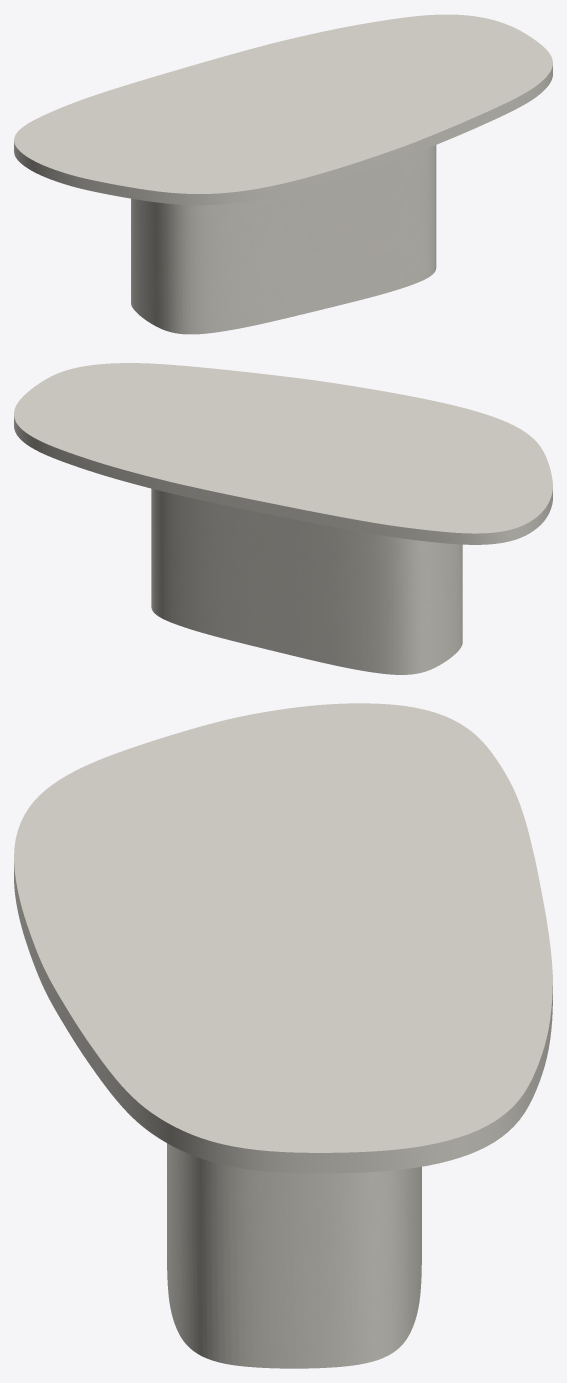
File: pale_leaf2_standard_fixed.glb
The picture shows the model from 3 angles, top to bottom: view 1: azimuth 30°, elevation 25°; view 2: azimuth 150°, elevation 25°; view 3: azimuth 270°, elevation 25°; orthographic projection. The views are drawn at different scales.
Visible parts, largest first — view 1: standard_leaf2, fixed; view 2: standard_leaf2, fixed; view 3: standard_leaf2, fixed.
Part boxes in pixels (left/top/right/bottom): standard_leaf2: left=14, top=14, right=552, bottom=205; fixed: left=131, top=145, right=436, bottom=334; standard_leaf2: left=14, top=363, right=552, bottom=544; fixed: left=151, top=488, right=462, bottom=674; standard_leaf2: left=14, top=703, right=552, bottom=1173; fixed: left=167, top=1143, right=421, bottom=1368.
Size of the model in its own units: 7.5 by 2.52 by 3.8.
1 material, 1 textured.
